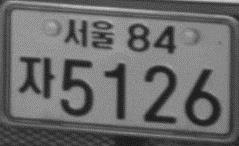1: (101, 62, 135, 120)
2: (140, 61, 178, 124)
4: (152, 24, 177, 54)
5: (183, 68, 222, 128), (60, 57, 94, 117)
8: (126, 22, 150, 52)
서울_H: (63, 18, 113, 49)
자: (17, 55, 55, 99)
